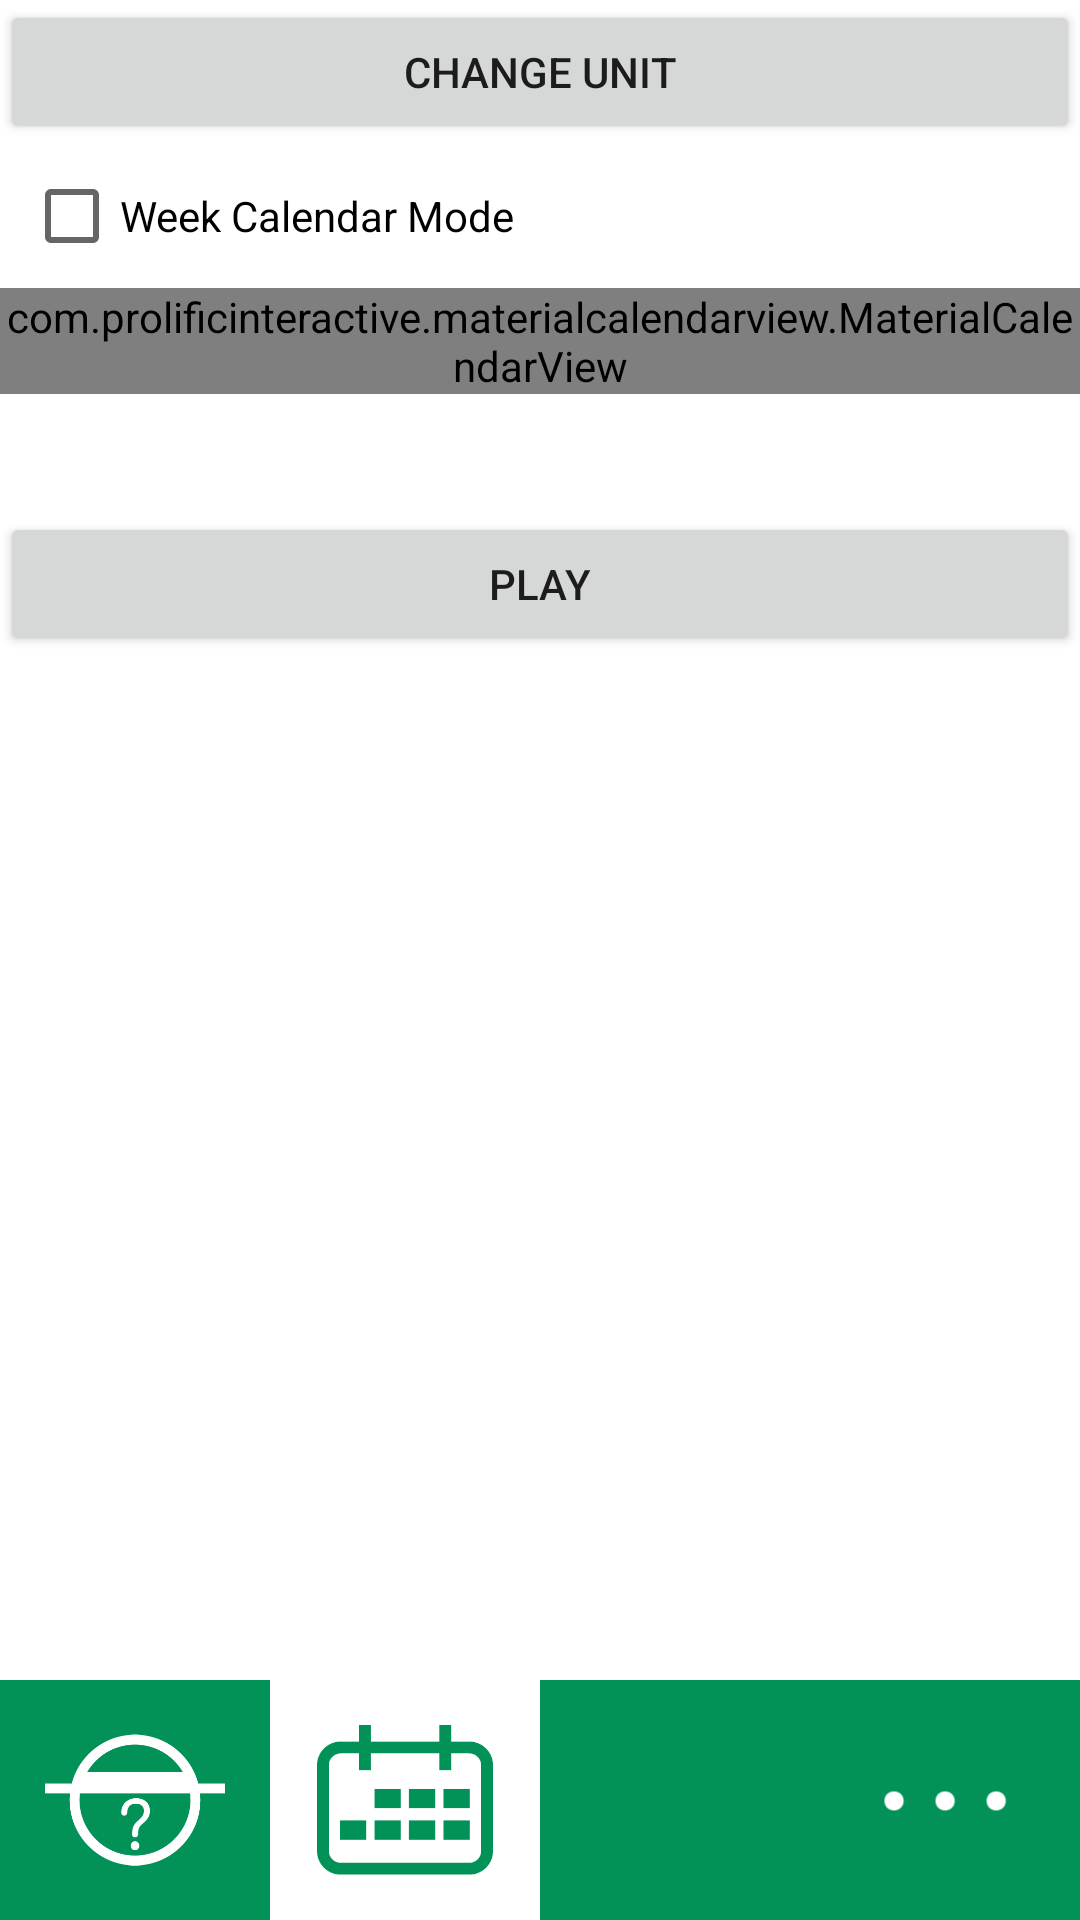

Screen size 1080px x 1920px. Icon name, then its box in pixels as (x1, y1, x2, y2):
calendar: (317, 1725, 493, 1875)
question: (0, 1680, 270, 1920)
